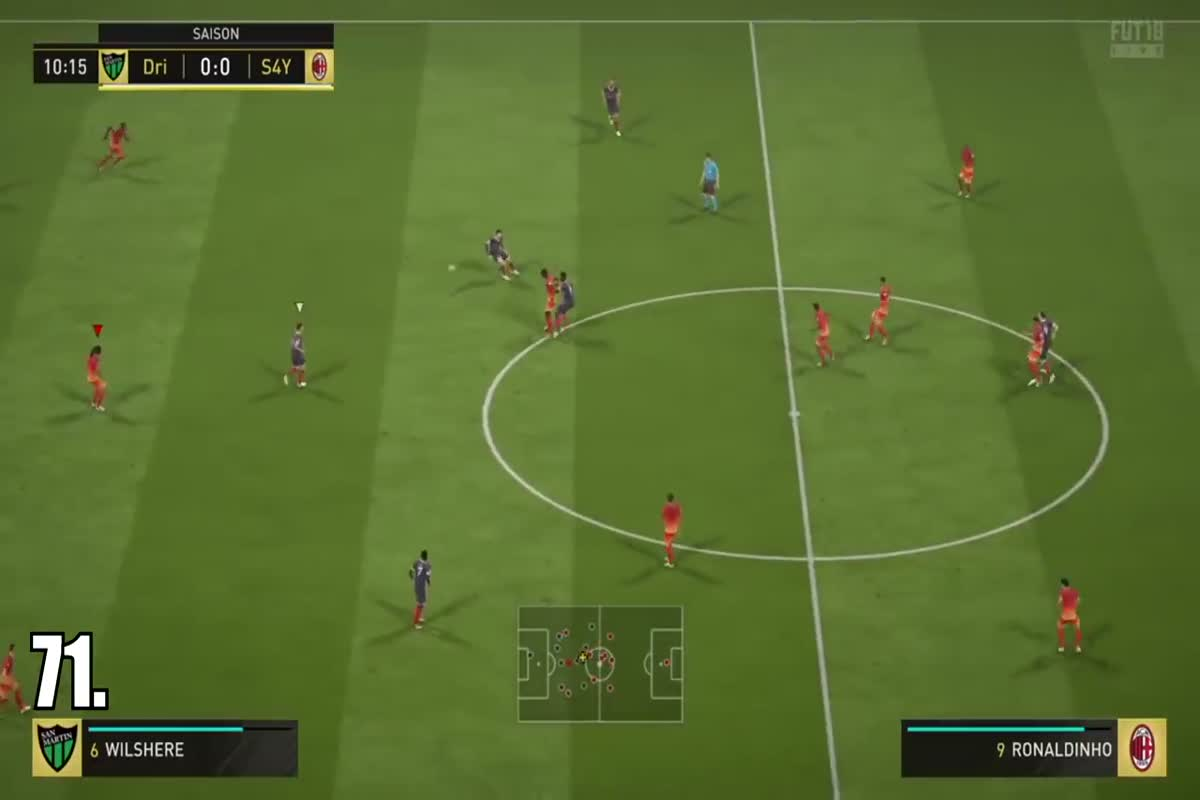ball: (436, 258, 466, 278)
